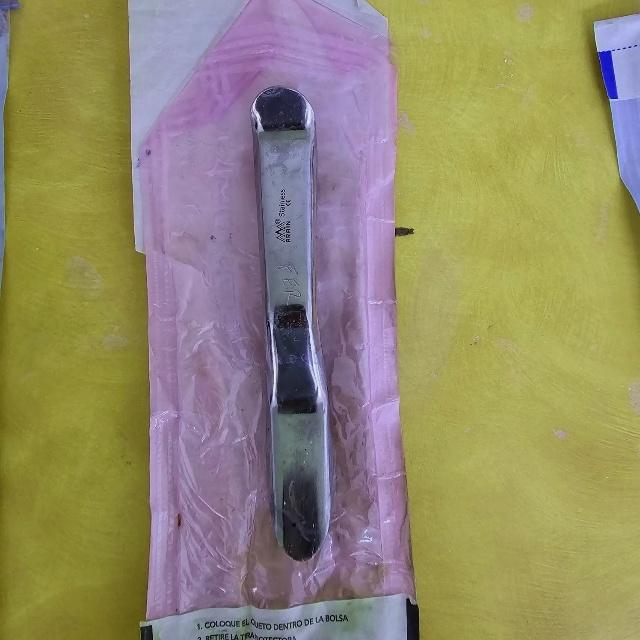separador: (252, 87, 331, 563)
